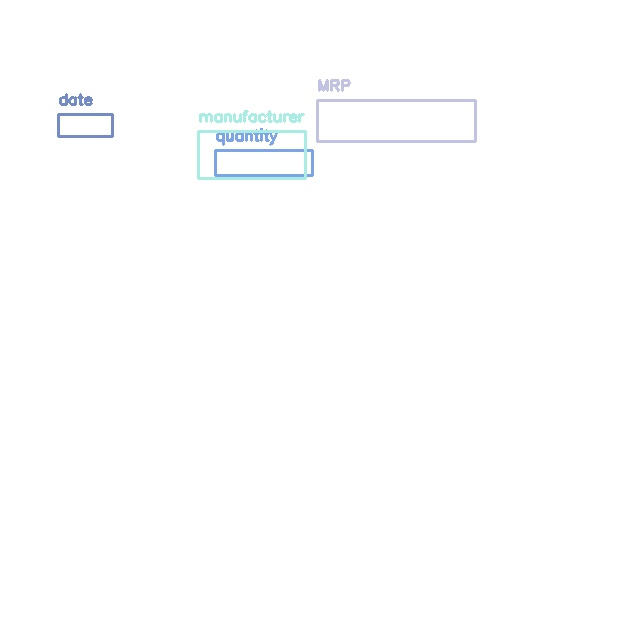MRP: (317, 100, 475, 141)
date: (58, 114, 112, 136)
manufacturer: (198, 131, 305, 178)
quantity: (215, 150, 312, 175)
